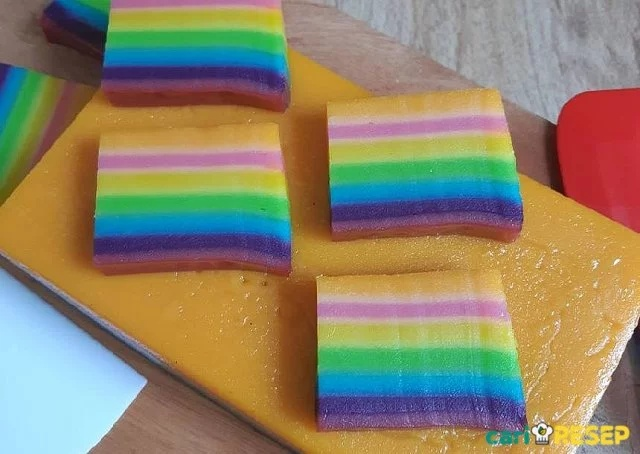kue_lapis_pelangi: (314, 267, 532, 434), (325, 86, 526, 243), (96, 121, 295, 278), (99, 5, 289, 113)
